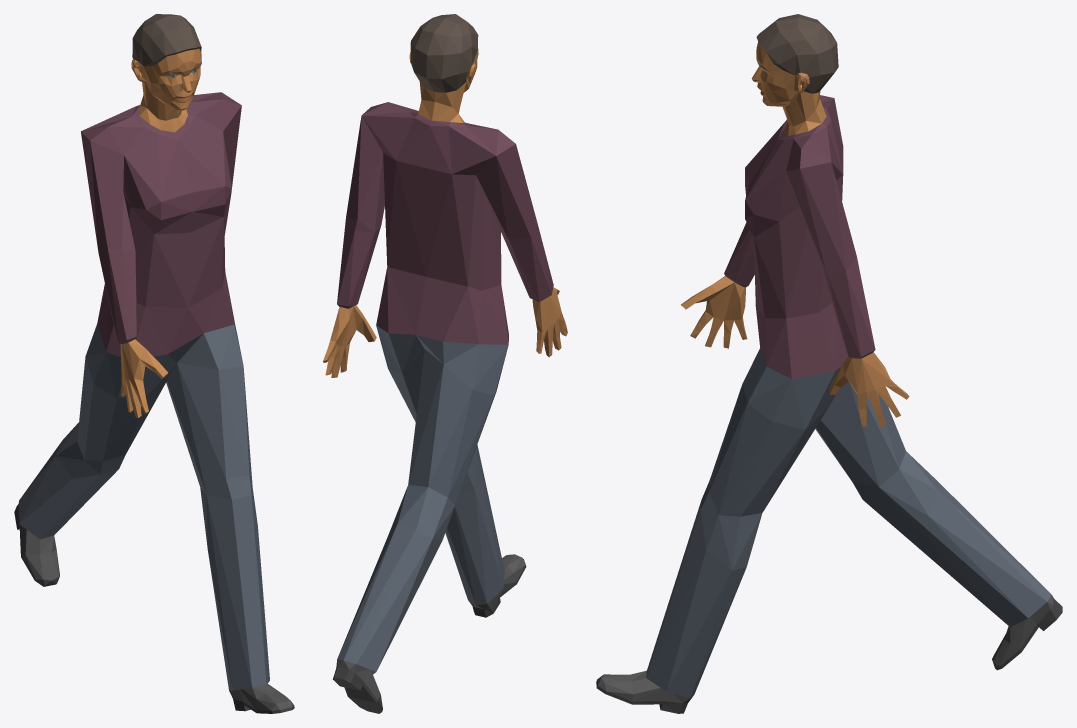
The model's file is human-female-1-walking.glb.
3 renders of one model, left to right at view 1: azimuth 30°, elevation 25°; view 2: azimuth 150°, elevation 25°; view 3: azimuth 270°, elevation 25°, orthographic. The views are drawn at different scales.
Parts seen in each view (by area): view 1: human/female@1/walking; view 2: human/female@1/walking; view 3: human/female@1/walking.
Part boxes in pixels (x1,y1,x2,y2): human/female@1/walking: (14,14,294,713); human/female@1/walking: (323,14,567,713); human/female@1/walking: (596,14,1062,713).
Size of the model in its own units: 444 by 1754 by 1085.
